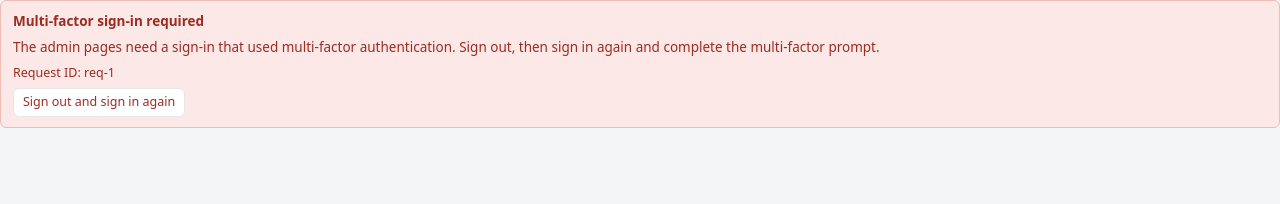
Test: ProblemNotice › says so in a banner when signing out fails, and lets the person try again
This screenshot has width=1280, height=204.
What coordinates should you click on to do the following:
click the button "Sign out and sign in again"
I would click on:
 (99, 103)
Its box is [13,88,185,117].
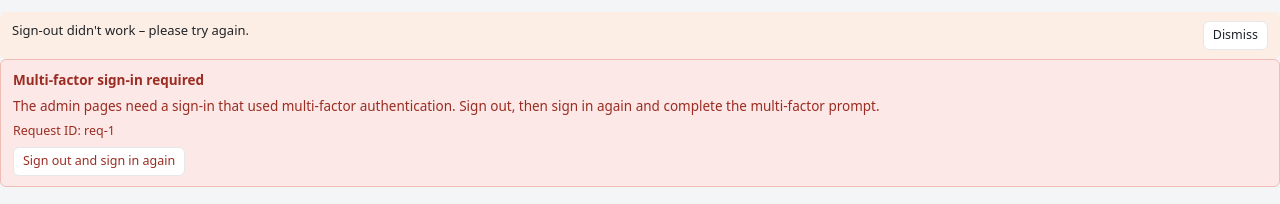
Expected: the button "Sign out and sign in again" is enabled, [13,147,185,176]
Now the text "Sign-out didn't work – please try again." is shown, box [12,21,249,39]
